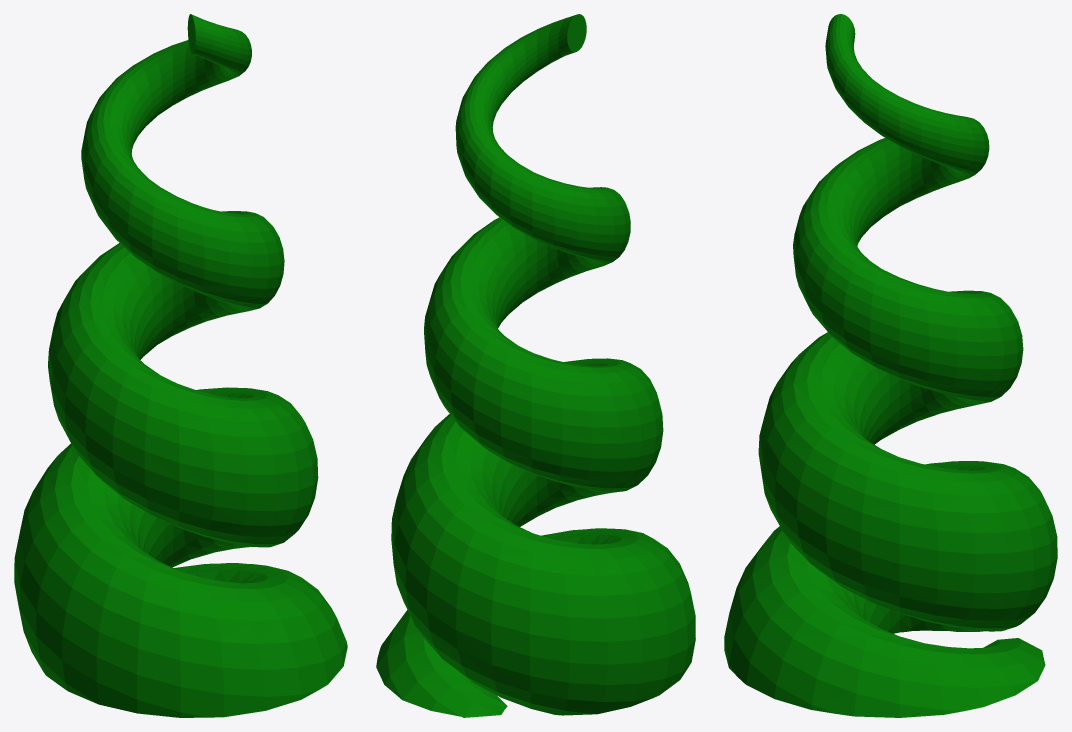
File: Vegetation_Verdant_Grass_Topiary_Spiral_Large_Tall_01.FBX
The picture shows the model from 3 angles, left to right: view 1: azimuth 30°, elevation 25°; view 2: azimuth 150°, elevation 25°; view 3: azimuth 270°, elevation 25°; orthographic projection. The views are drawn at different scales.
Parts seen in each view (by area): view 1: Vegetation_Verdant_Grass_Topiary_Spiral_Large_Tall_01; view 2: Vegetation_Verdant_Grass_Topiary_Spiral_Large_Tall_01; view 3: Vegetation_Verdant_Grass_Topiary_Spiral_Large_Tall_01.
Boxes of the visible parts, x1=… form: Vegetation_Verdant_Grass_Topiary_Spiral_Large_Tall_01: x1=14, y1=14, x2=347, y2=717; Vegetation_Verdant_Grass_Topiary_Spiral_Large_Tall_01: x1=376, y1=14, x2=695, y2=717; Vegetation_Verdant_Grass_Topiary_Spiral_Large_Tall_01: x1=724, y1=14, x2=1057, y2=717.
Size of the model in its own units: 6404 by 14172 by 6792.
